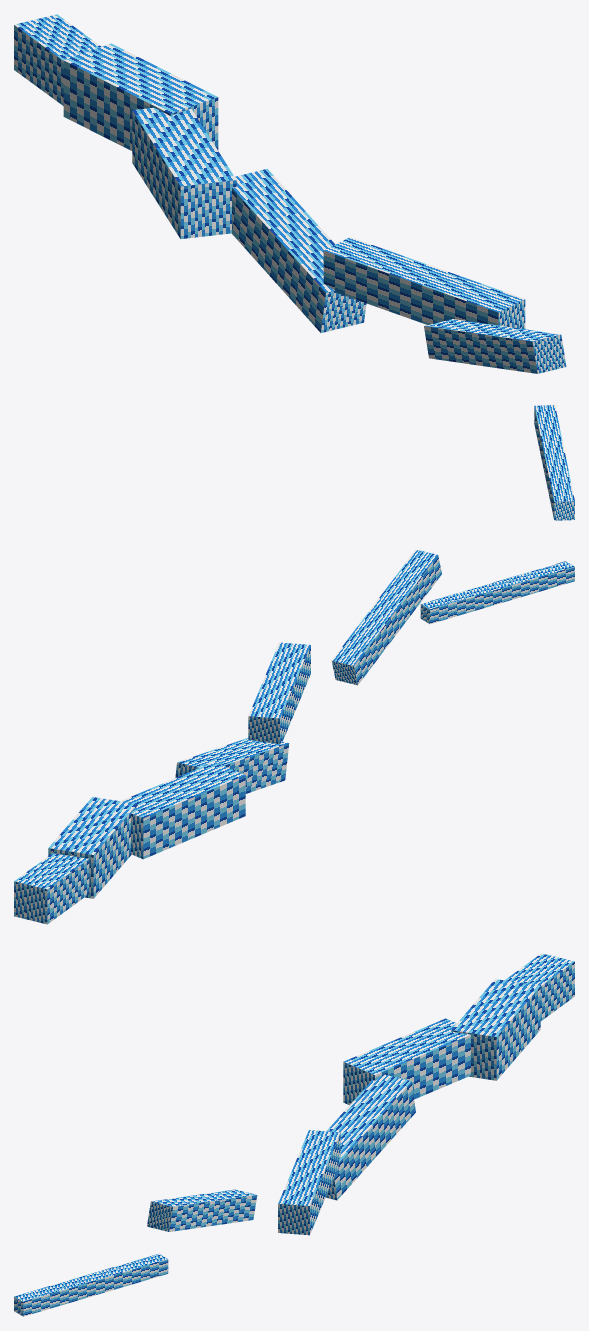
The model's file is water_whip_stream.obj.
3 views of the same model, one above another, from view 1: azimuth 30°, elevation 25°; view 2: azimuth 150°, elevation 25°; view 3: azimuth 330°, elevation 25° (orthographic). The views are drawn at different scales.
Visible parts, largest first — view 1: Water Whip Stream; view 2: Water Whip Stream; view 3: Water Whip Stream.
Part boxes in pixels (x1,y1,x2,y2): Water Whip Stream: (14, 14, 574, 520); Water Whip Stream: (14, 549, 574, 924); Water Whip Stream: (14, 953, 574, 1316).
Bounding box in the file's own units: 0.6127 × 0.4633 × 3.7.
1 material, 1 textured.
